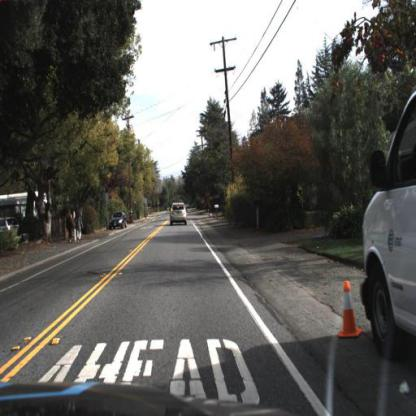car: (108, 211, 130, 234), (170, 203, 189, 228)
pedestrian: (66, 209, 74, 245), (70, 209, 78, 245), (76, 209, 85, 241)
truck: (363, 86, 416, 375)
